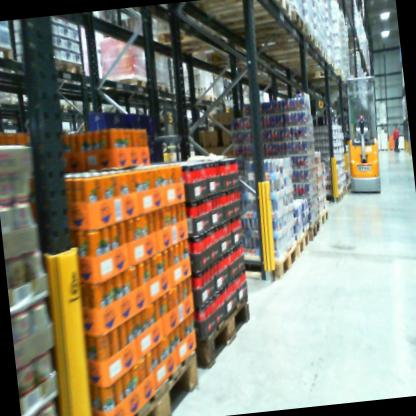pallet: (117, 348, 202, 416), (191, 290, 255, 372), (154, 20, 236, 61), (197, 0, 294, 32), (221, 8, 306, 44), (230, 242, 301, 285), (98, 64, 159, 99), (206, 47, 269, 73), (256, 47, 330, 69), (291, 67, 349, 94), (45, 49, 91, 83), (276, 55, 340, 77), (293, 228, 312, 258), (152, 76, 174, 97), (307, 215, 324, 242), (54, 96, 77, 115), (199, 85, 218, 107), (321, 189, 343, 208), (319, 206, 333, 227)
pallet_truck: (340, 71, 387, 199)
